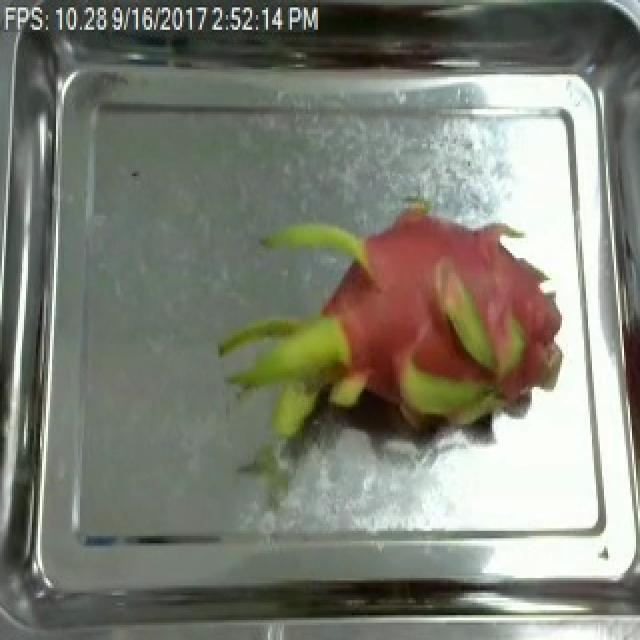fruit: (210, 166, 582, 486)
